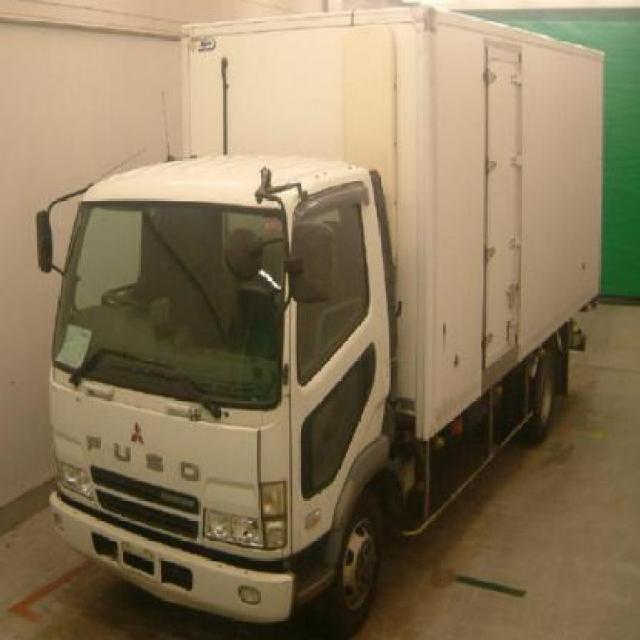truck: (41, 5, 604, 622)
